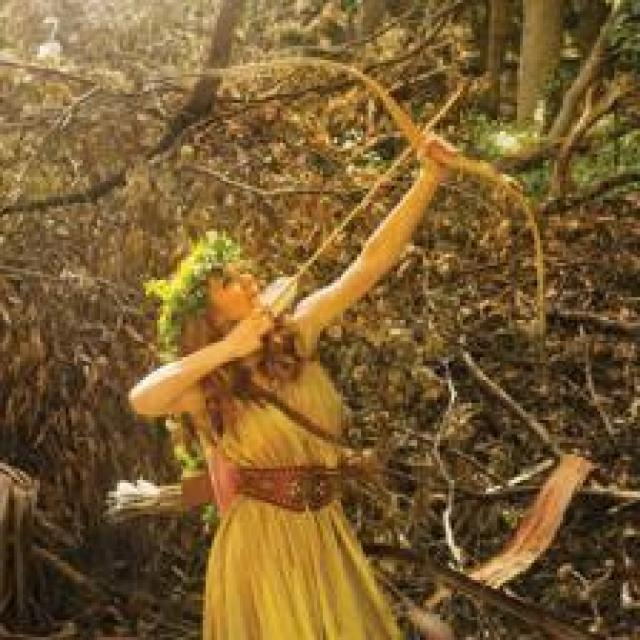X-Bow: (210, 38, 556, 293)
